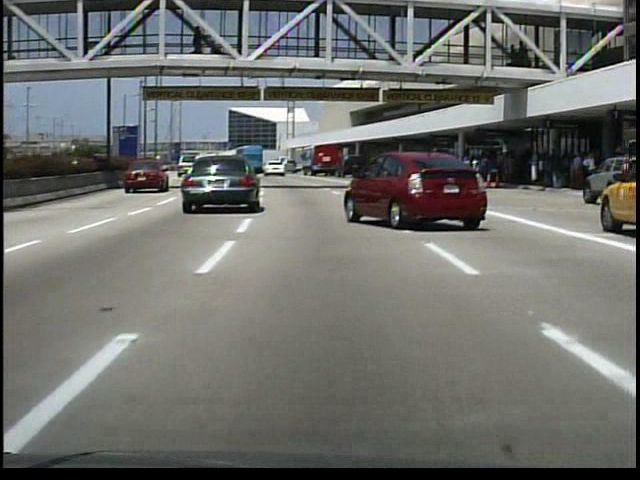person: (193, 29, 208, 58)
